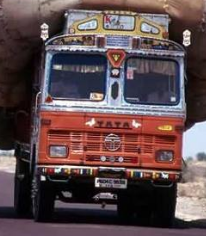truck: (12, 5, 188, 226)
